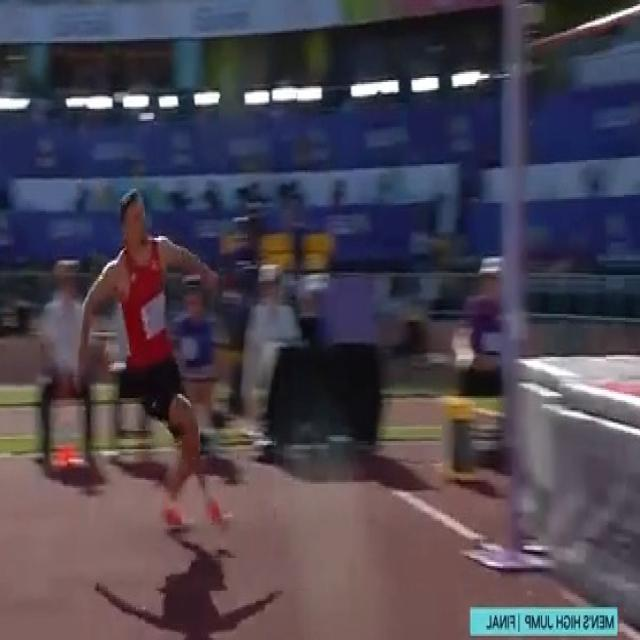run: (76, 188, 230, 545)
